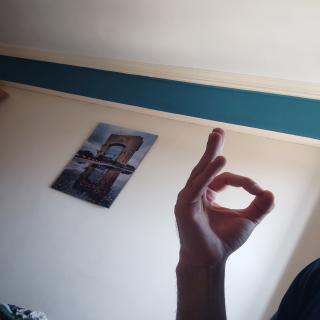Space: (169, 123, 282, 258)
